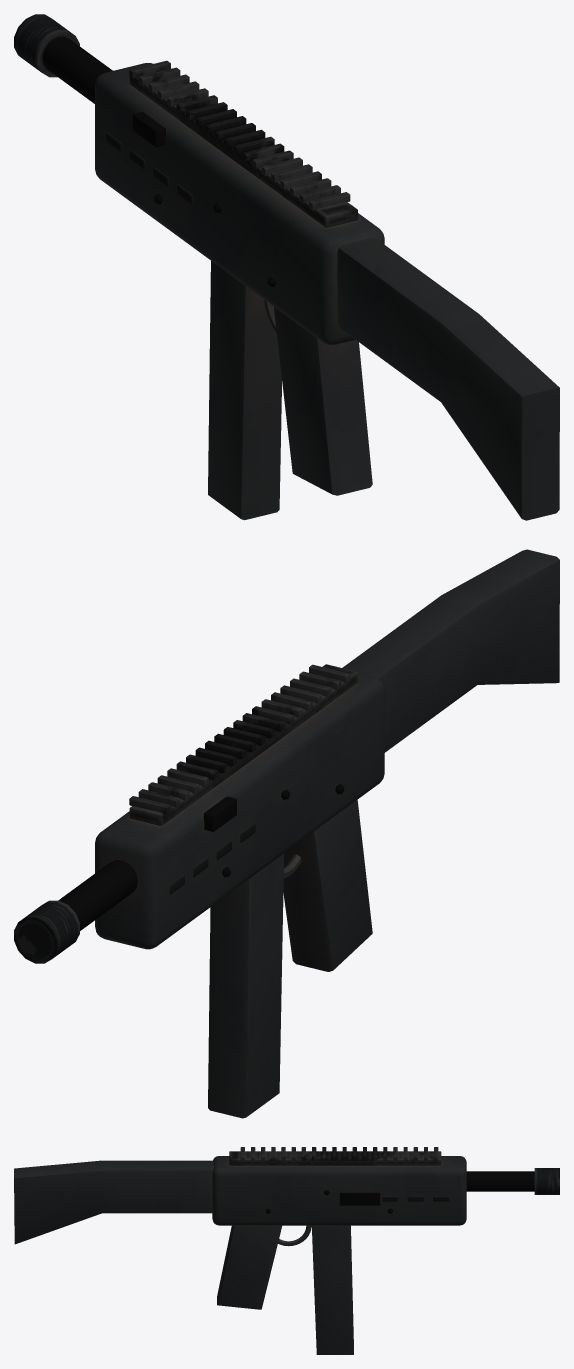
File: ump45.glb
3 views of the same model, one above another, from view 1: azimuth 30°, elevation 25°; view 2: azimuth 150°, elevation 25°; view 3: azimuth 270°, elevation 25° (orthographic). The views are drawn at different scales.
Parts seen in each view (by area): view 1: body_furniture, mag_furniture, body_receiver, body_metal; view 2: body_furniture, mag_furniture, body_receiver, body_metal; view 3: body_furniture, mag_furniture, body_receiver, body_metal.
Part boxes in pixels (<box>): body_furniture: <box>95,63,559,520</box>; mag_furniture: <box>208,261,281,520</box>; body_receiver: <box>14,14,357,227</box>; body_metal: <box>42,37,276,286</box>; body_furniture: <box>95,549,559,971</box>; mag_furniture: <box>208,853,284,1118</box>; body_receiver: <box>14,664,357,963</box>; body_metal: <box>58,784,344,930</box>; body_furniture: <box>14,1156,466,1309</box>; mag_furniture: <box>311,1225,353,1354</box>; body_receiver: <box>229,1147,559,1194</box>; body_metal: <box>265,1171,534,1213</box>.
Size of the model in its own units: 0.0576 by 0.2585 by 0.644.
Materials: 4 (4 with a texture image).
